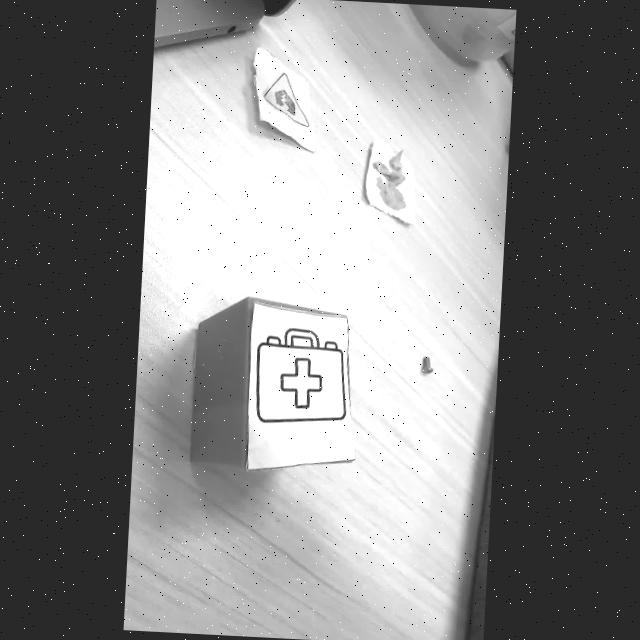Medkit: (256, 329, 347, 424)
